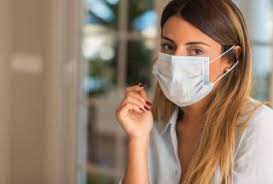mask: (147, 2, 244, 112)
